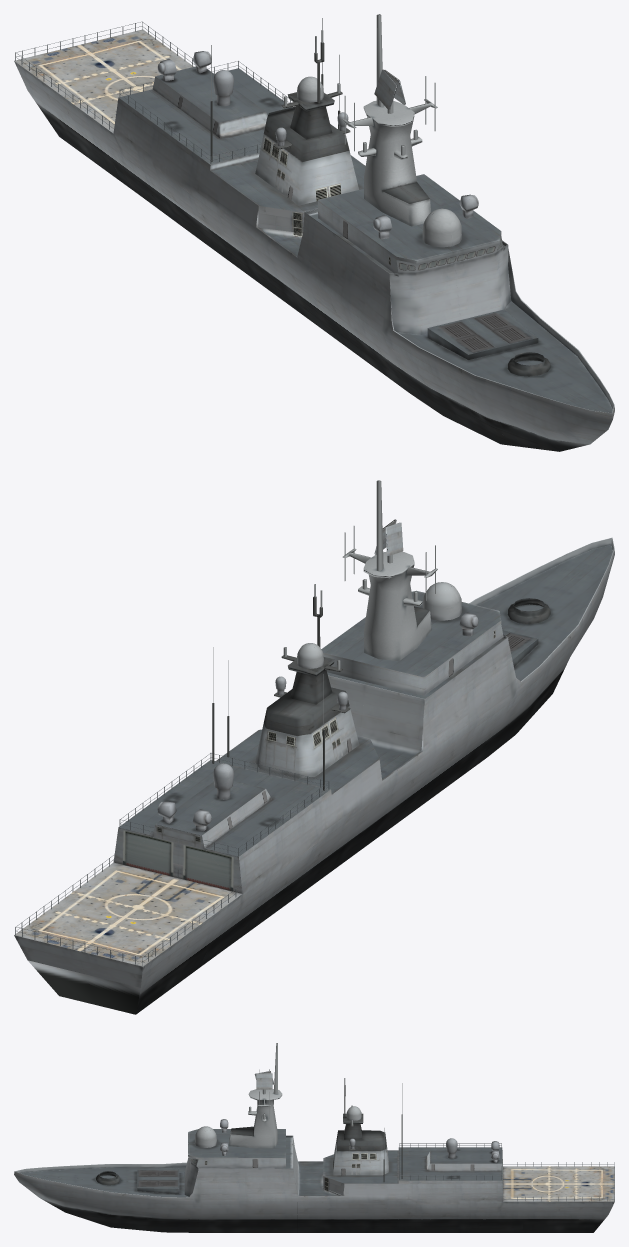
File: player_warship.glb
3 renders of one model, top to bottom at view 1: azimuth 30°, elevation 25°; view 2: azimuth 150°, elevation 25°; view 3: azimuth 270°, elevation 25°, orthographic. The views are drawn at different scales.
Parts seen in each view (by area): view 1: pCube35; view 2: pCube35; view 3: pCube35.
Boxes of the visible parts, box(x1,y1,x2,y2) form: pCube35: box(14, 14, 614, 451); pCube35: box(14, 480, 614, 1014); pCube35: box(14, 1043, 614, 1232).
Size of what is drawn, in the model's own units: 14.5 by 34.19 by 104.
2 materials, 2 textured.
